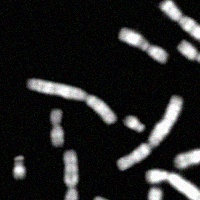chromosome: (116, 95, 182, 170), (26, 79, 114, 126), (160, 0, 200, 45), (146, 169, 200, 200), (119, 29, 167, 63), (63, 150, 78, 200), (178, 40, 200, 73), (50, 108, 66, 146), (176, 149, 200, 168), (132, 187, 161, 200), (123, 115, 144, 132), (13, 156, 25, 179), (92, 197, 135, 200)
